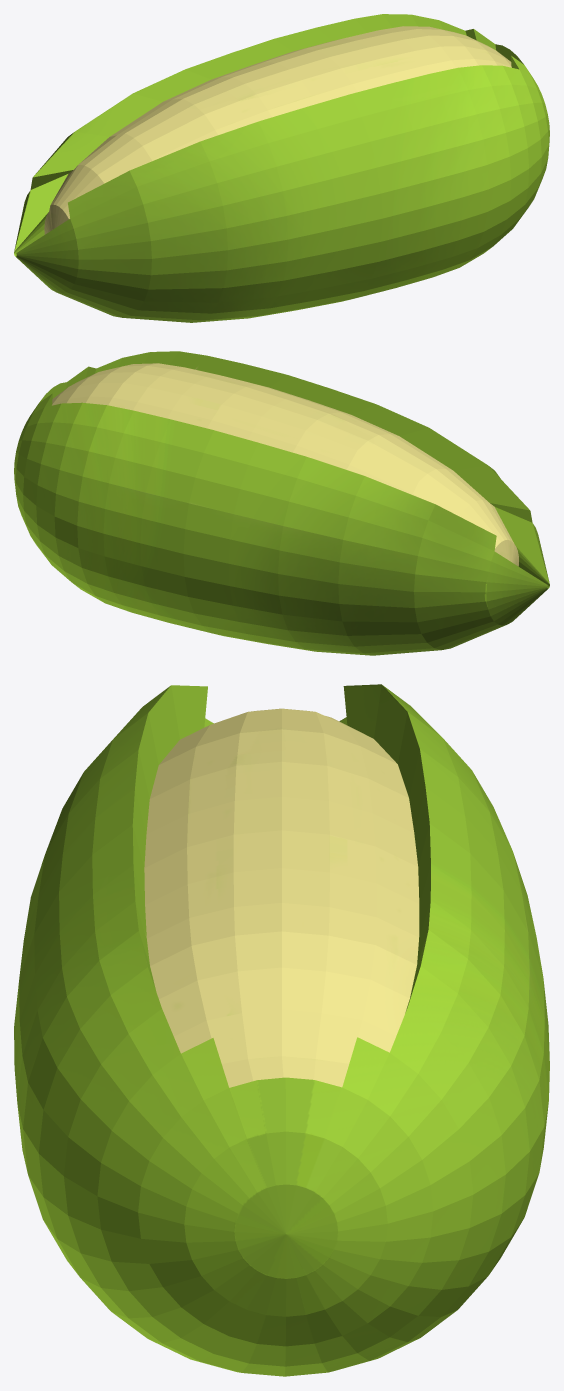
The model's file is maiz.obj.
3 views of the same model, one above another, from view 1: azimuth 30°, elevation 25°; view 2: azimuth 150°, elevation 25°; view 3: azimuth 270°, elevation 25° (orthographic). The views are drawn at different scales.
Visible parts, largest first — view 1: Sphere.001; view 2: Sphere.001; view 3: Sphere.001.
Part boxes in pixels (x1,y1,x2,y2): Sphere.001: [14, 14, 549, 322]; Sphere.001: [14, 351, 549, 655]; Sphere.001: [14, 684, 549, 1376].
Bounding box in the file's own units: 1.92 × 0.8157 × 0.8732.
